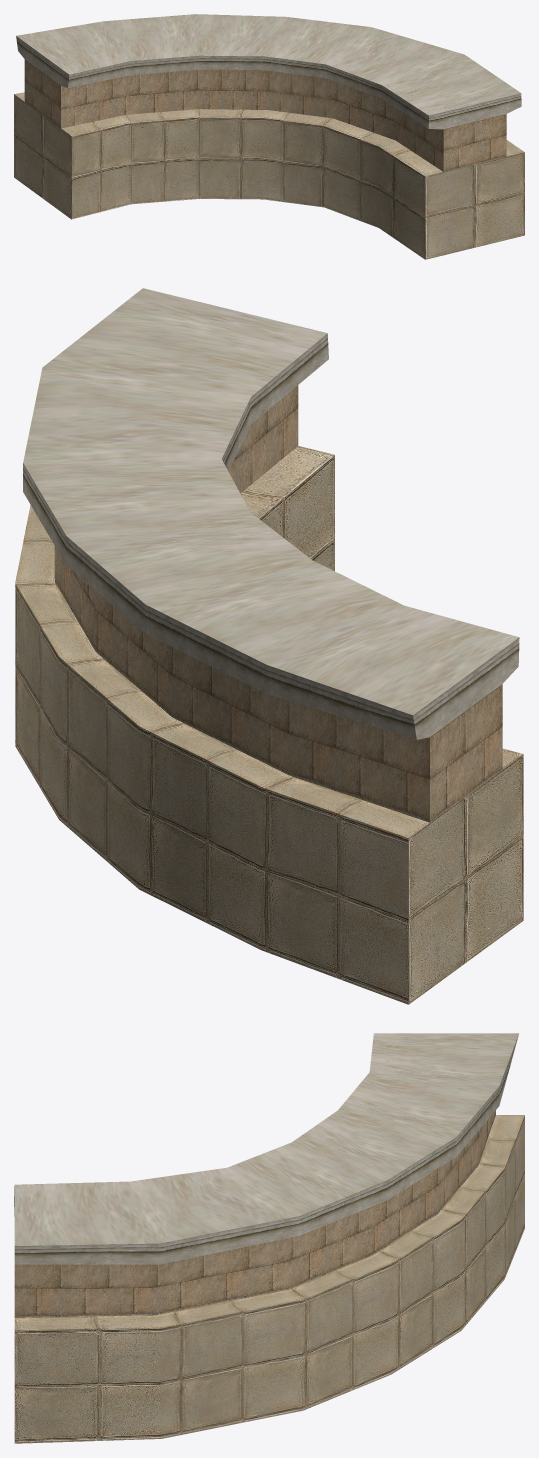
The model's file is thm_nboo_imprv_short_curved_wall_small_s01_l0.fbx.
The picture shows the model from 3 angles, top to bottom: view 1: azimuth 30°, elevation 25°; view 2: azimuth 150°, elevation 25°; view 3: azimuth 270°, elevation 25°; orthographic projection. The views are drawn at different scales.
Visible parts, largest first — view 1: mesh_node; view 2: mesh_node; view 3: mesh_node.
Boxes of the visible parts, <box> form: mesh_node: <box>14,14,524,259</box>; mesh_node: <box>15,288,523,1004</box>; mesh_node: <box>14,1033,524,1443</box>.
Bounding box in the file's own units: 4.73 × 2 × 4.73.
